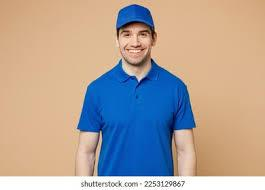cap: (114, 2, 158, 36)
